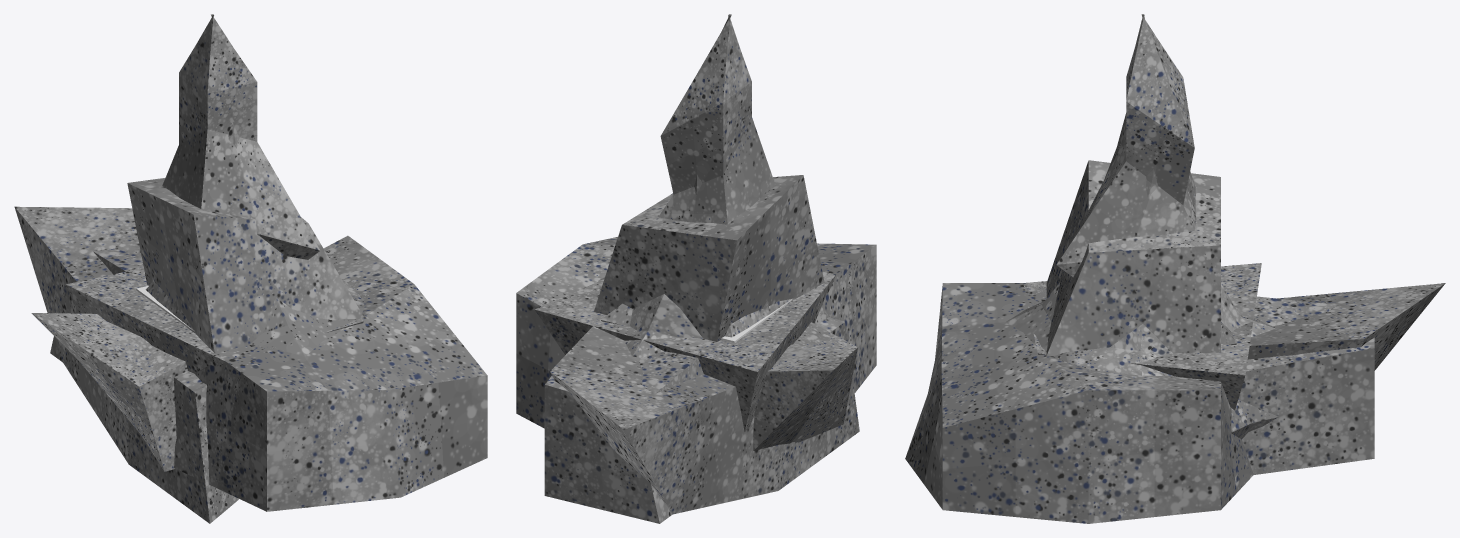
The model's file is RocksByMintuccino.fbx.
3 renders of one model, left to right at view 1: azimuth 30°, elevation 25°; view 2: azimuth 150°, elevation 25°; view 3: azimuth 270°, elevation 25°, orthographic.
Visible parts, largest first — view 1: Smallrocks6, Lonrock2, Smallrock1, Smallrock4, Smallrock3, Smallrocks5; view 2: Smallrocks6, Smallrock1, Lonrock2, Smallrock3, Smallrock4, Smallrocks5; view 3: Smallrocks6, Lonrock2, Smallrock1, Smallrocks5, Smallrock3.
Boxes of the visible parts, x1,y1,x2,y2 form: Smallrocks6: (50,178,487,511); Lonrock2: (145,14,320,332); Smallrock1: (14,206,238,523); Smallrock4: (31,313,187,471); Smallrock3: (65,268,363,373); Smallrocks5: (174,280,364,356); Smallrocks6: (516,175,876,523); Smallrock1: (550,317,859,514); Lonrock2: (601,14,792,337); Smallrock3: (534,271,835,431); Smallrock4: (753,322,857,450); Smallrocks5: (598,277,768,357); Smallrocks6: (905,160,1374,523); Lonrock2: (1056,14,1236,344); Smallrock1: (1247,283,1445,370); Smallrocks5: (1005,282,1278,439); Smallrock3: (1023,263,1261,410).
Bounding box in the file's own units: 601 × 742 × 818.
